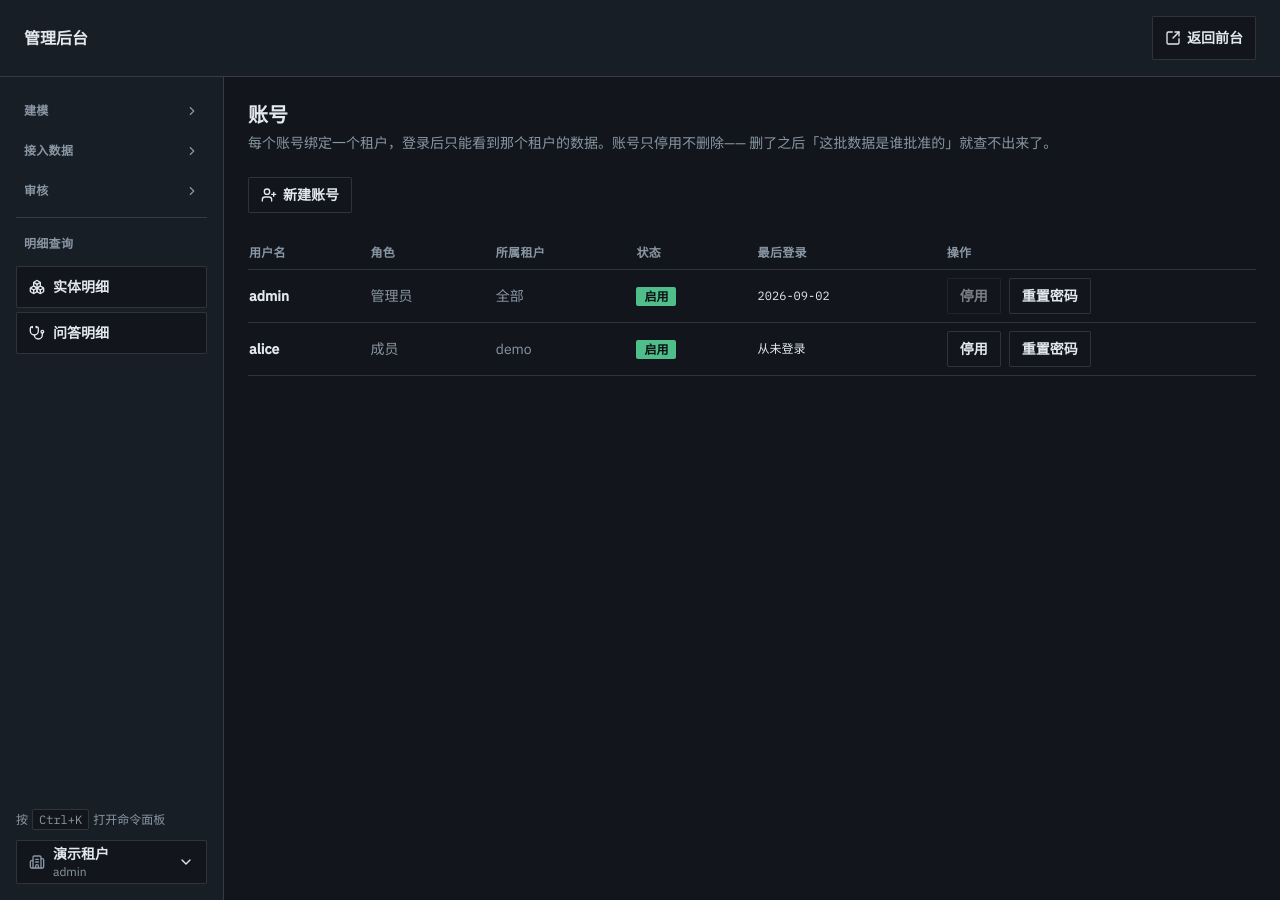
Test: 账号页 › 停用要二次确认——它会立刻把人挡在门外
Click the button with aria-label "停用 alice" at (974, 349), box [947,331,1001,367]
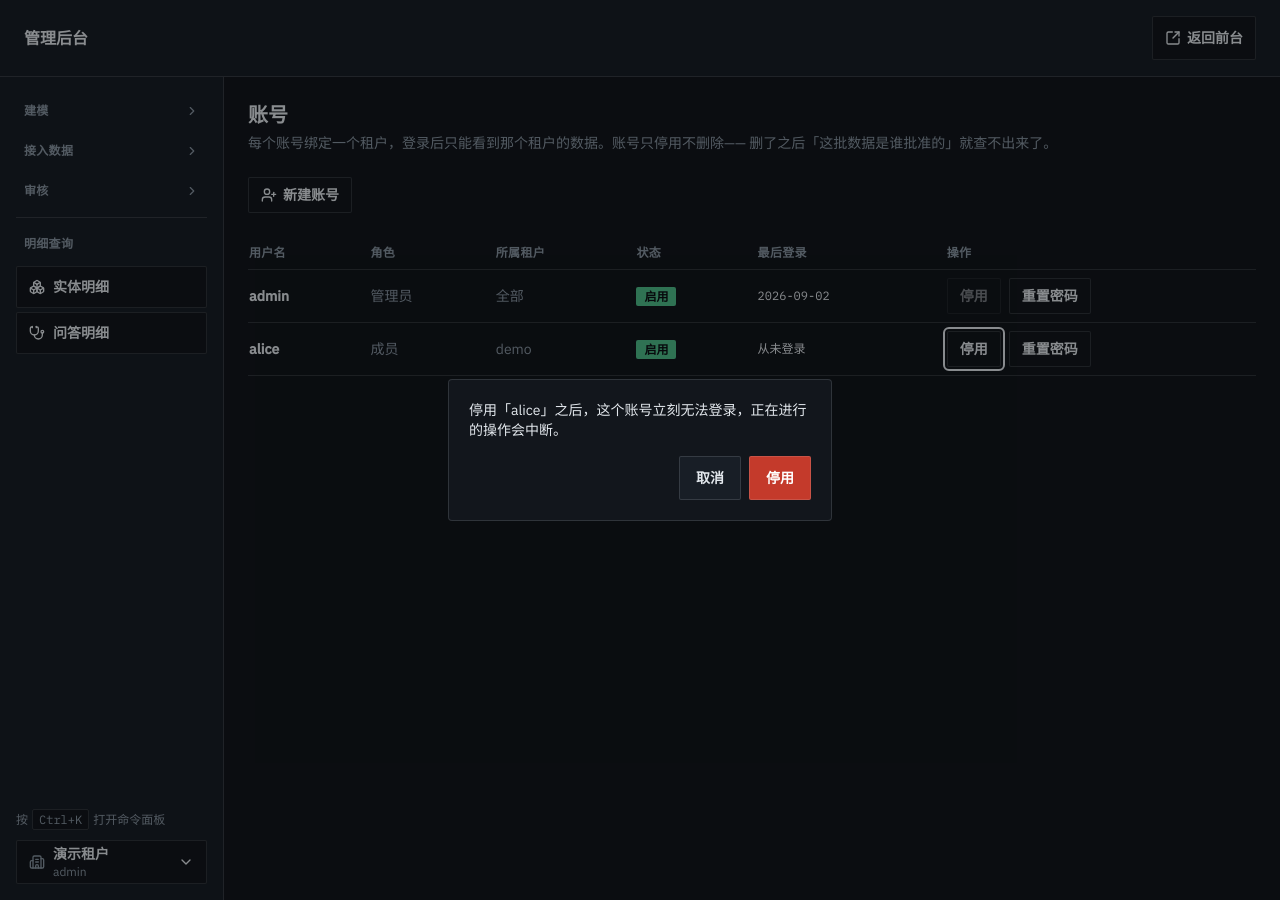
Expected: the dialog is shown, [448,379,832,521]
